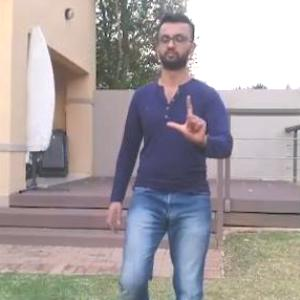land_hand: (160, 89, 212, 152)
